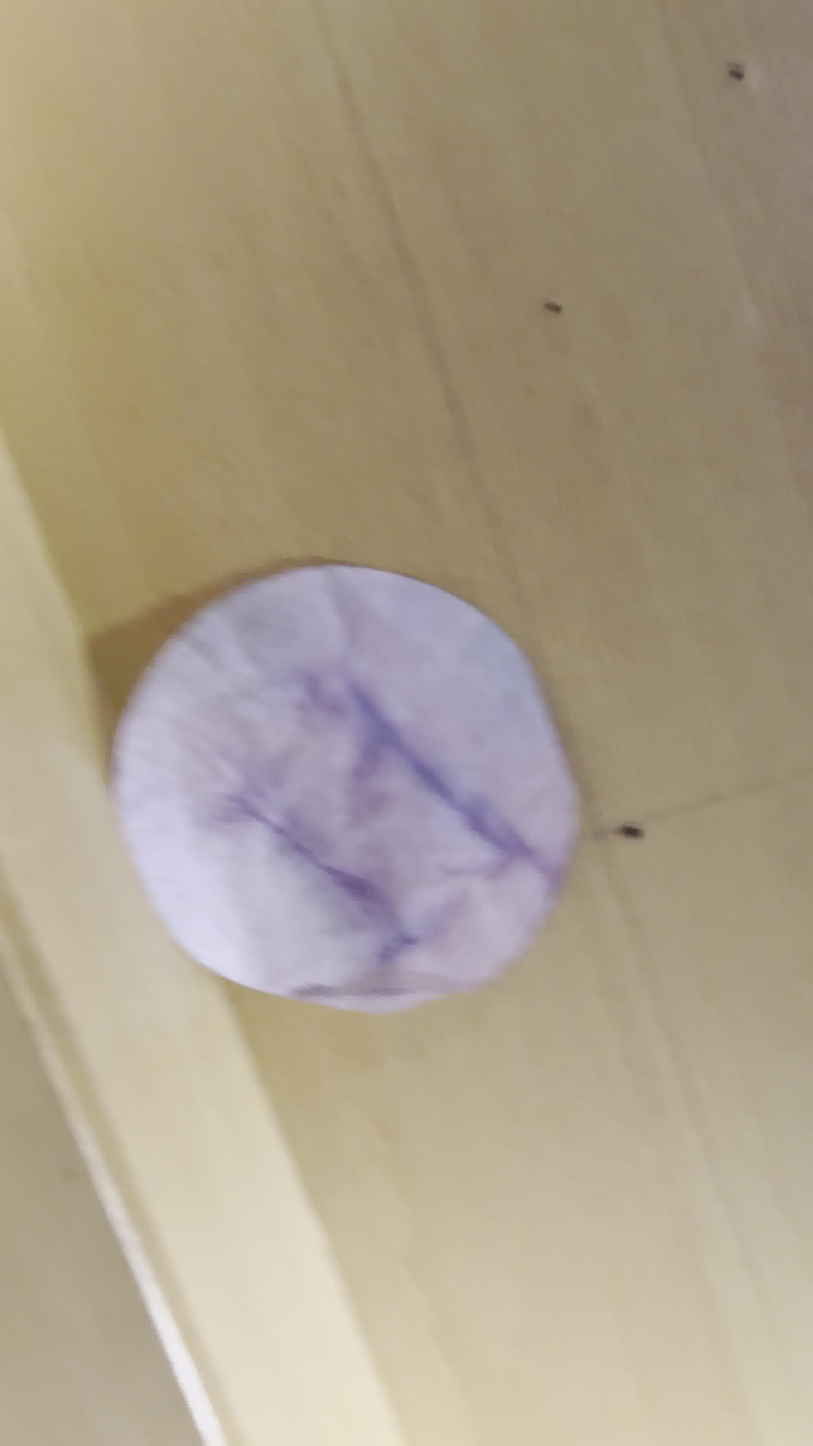Target: (115, 562, 581, 1014)
